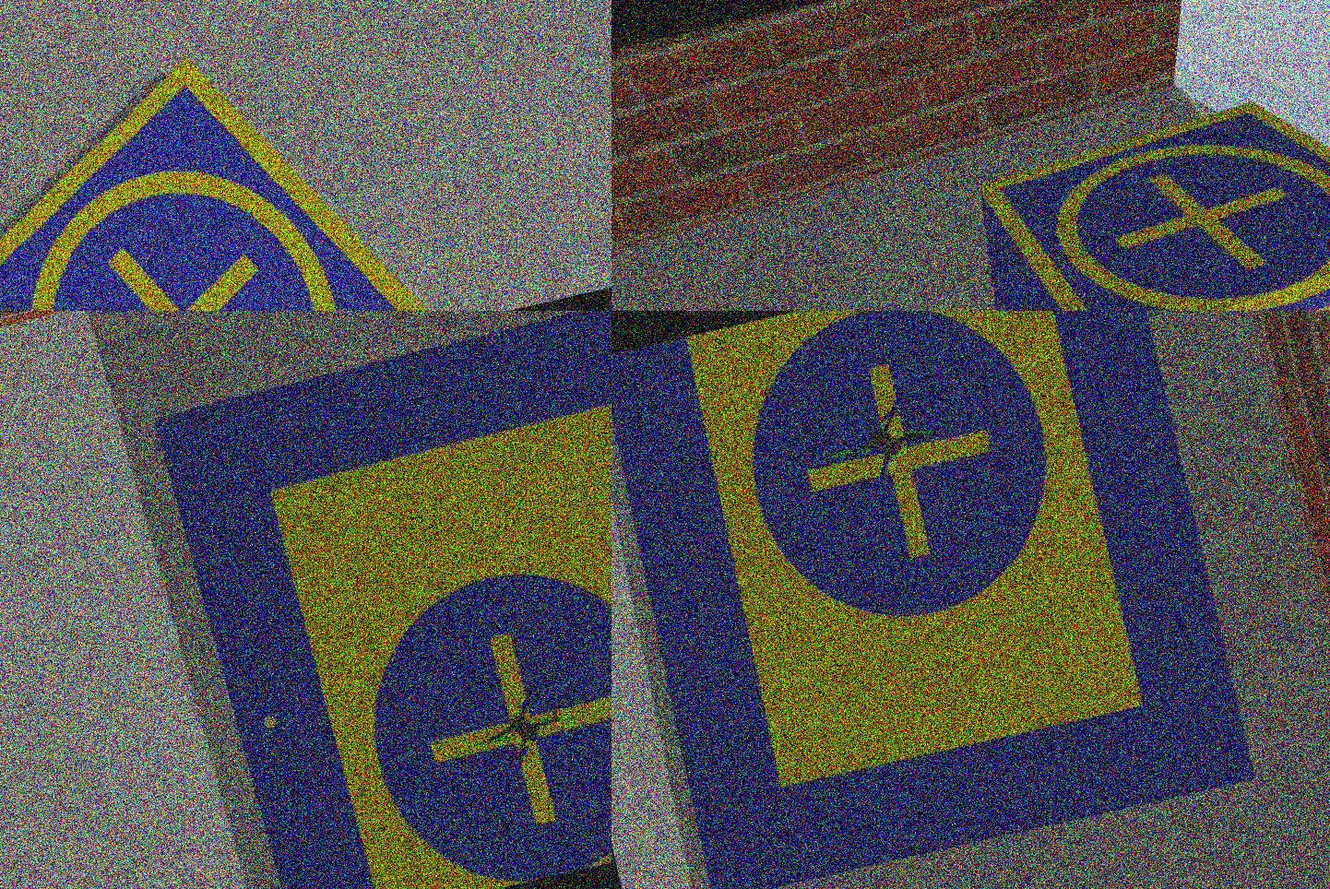large_base: (612, 312, 1257, 889), (153, 312, 612, 889)
small_base: (1, 13, 438, 312), (968, 56, 1330, 312)
